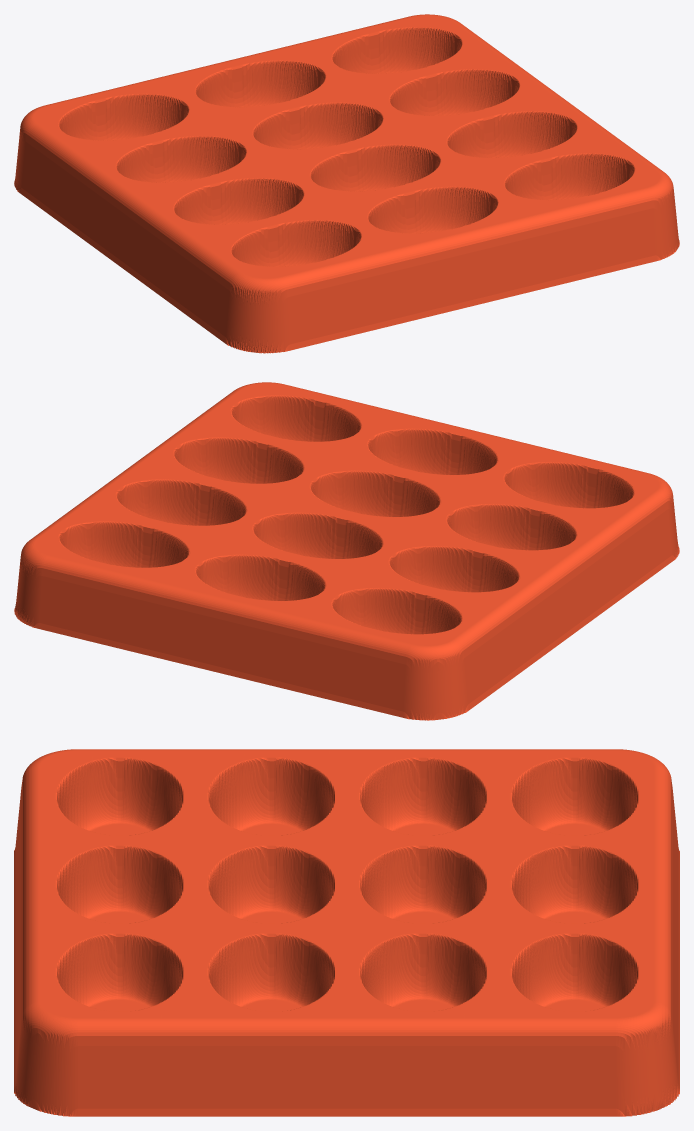
The model's file is mold.glb.
3 views of the same model, one above another, from view 1: azimuth 30°, elevation 25°; view 2: azimuth 150°, elevation 25°; view 3: azimuth 270°, elevation 25° (orthographic). The views are drawn at different scales.
Visible parts, largest first — view 1: geometry_0; view 2: geometry_0; view 3: geometry_0.
Part boxes in pixels (x1,y1,x2,y2): geometry_0: (14, 14, 679, 353); geometry_0: (14, 382, 679, 720); geometry_0: (14, 749, 679, 1116).
Size of the model in its own units: 0.0963 by 0.0136 by 0.0938.
